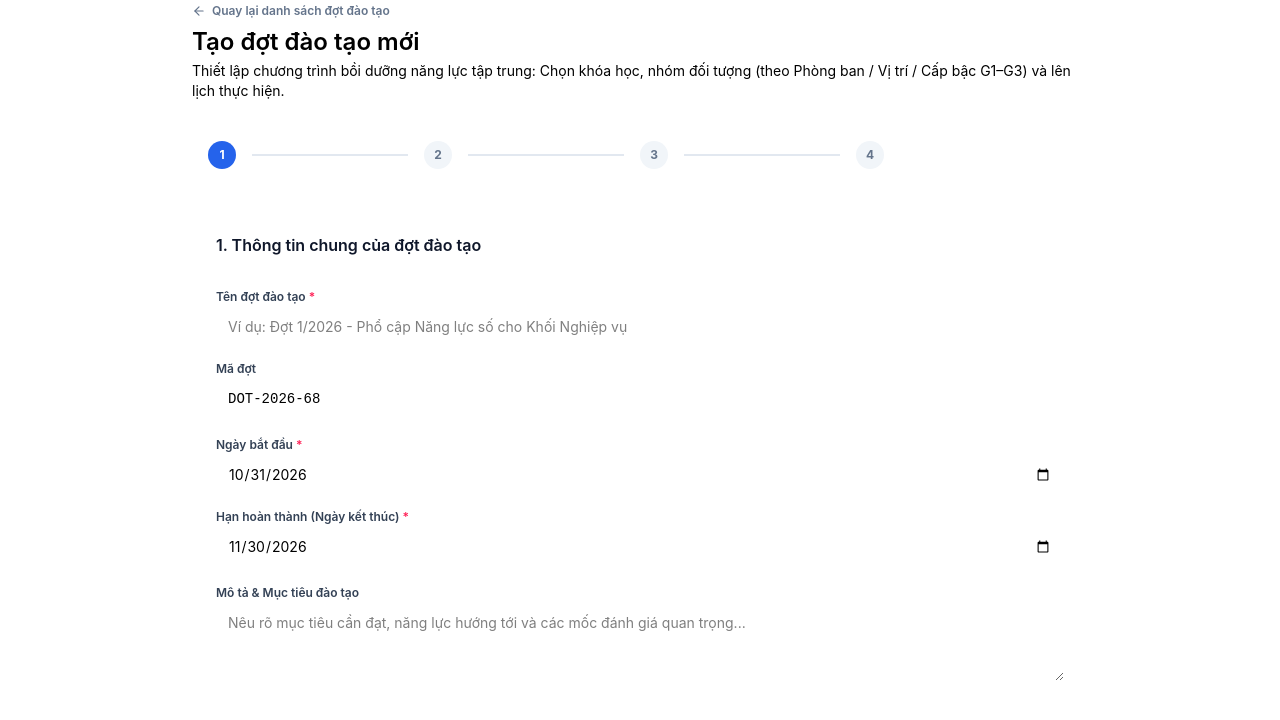
it: TrainingBatchPages (Agent 1 - Phase D) › TrainingBatchWizardPage › renders step 1 and navigates to step 2 after entering name
Expected: the heading "Tạo đợt đào tạo mới" is shown, 192,27 -> 420,56
Expected: the heading "1. Thông tin chung của đợt đào tạo" is shown, 216,235 -> 481,255
Step 1. Type "Chương trình đào tạo mới 2026" into the field with placeholder "Ví dụ: Đợt 1/2026 - Phổ cập Năng lực số cho Khối Nghiệp vụ" → (640, 327), box 216,309 -> 1064,345
(page scrolled)
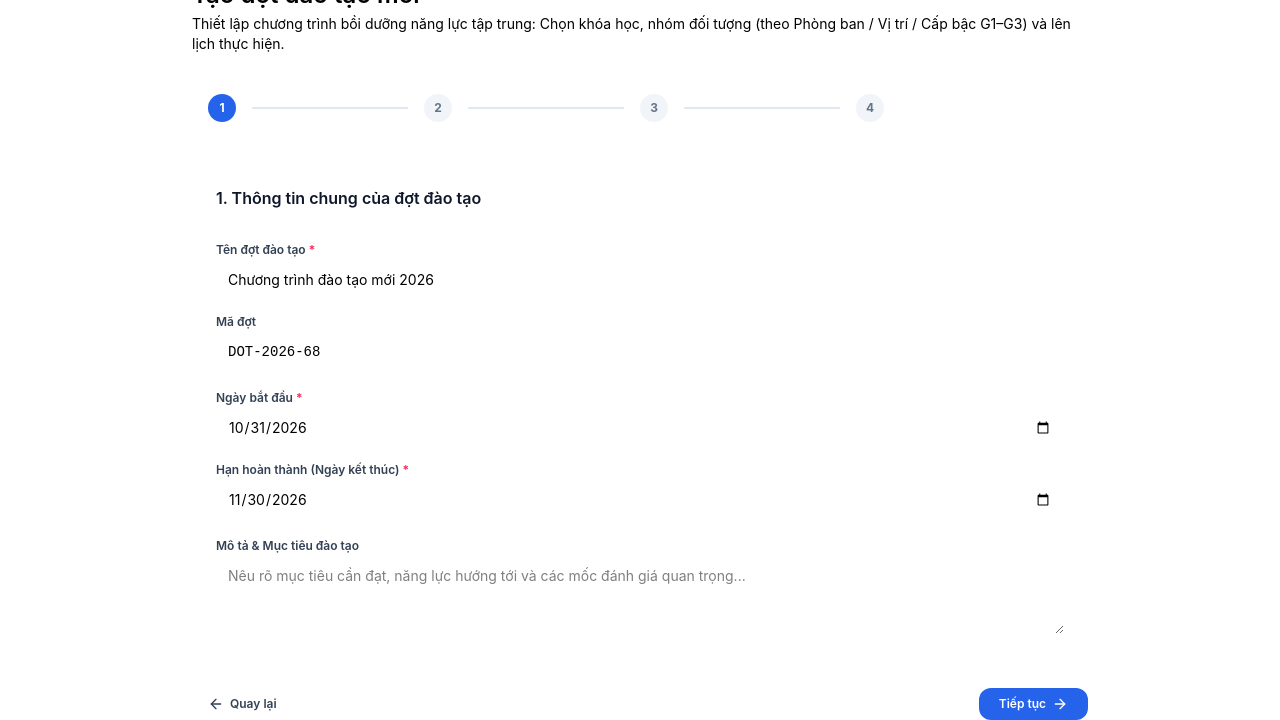
Step 2. Click the button "Tiếp tục" → (1033, 704), box 979,688 -> 1088,719
(page scrolled)
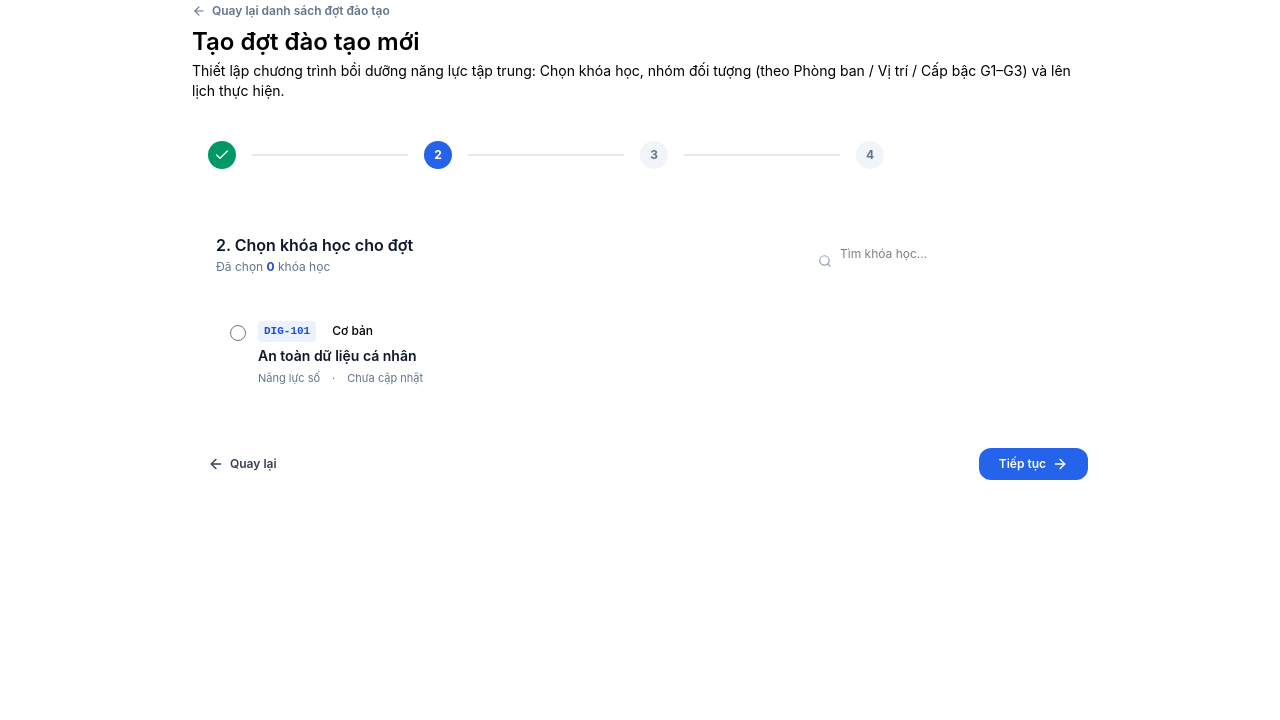
Result: the heading "2. Chọn khóa học cho đợt" is shown at 216,233 -> 413,257
Result: the text "An toàn dữ liệu cá nhân" is shown at 258,346 -> 416,364
